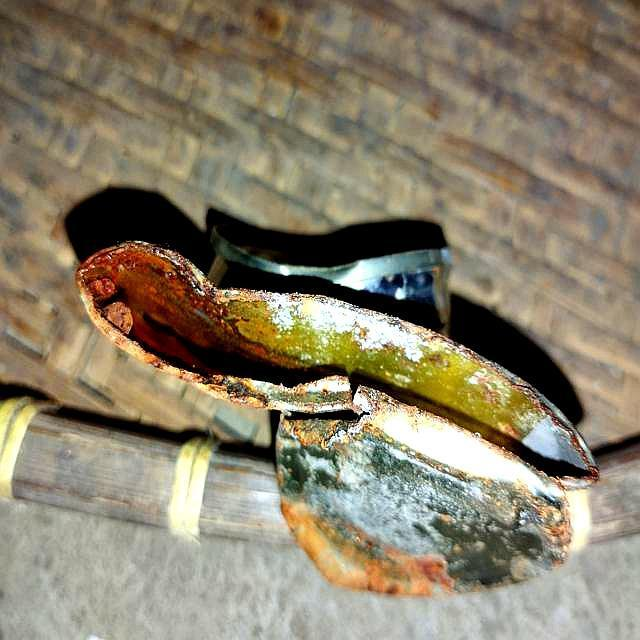Non-biodegradable: (73, 229, 611, 605)
